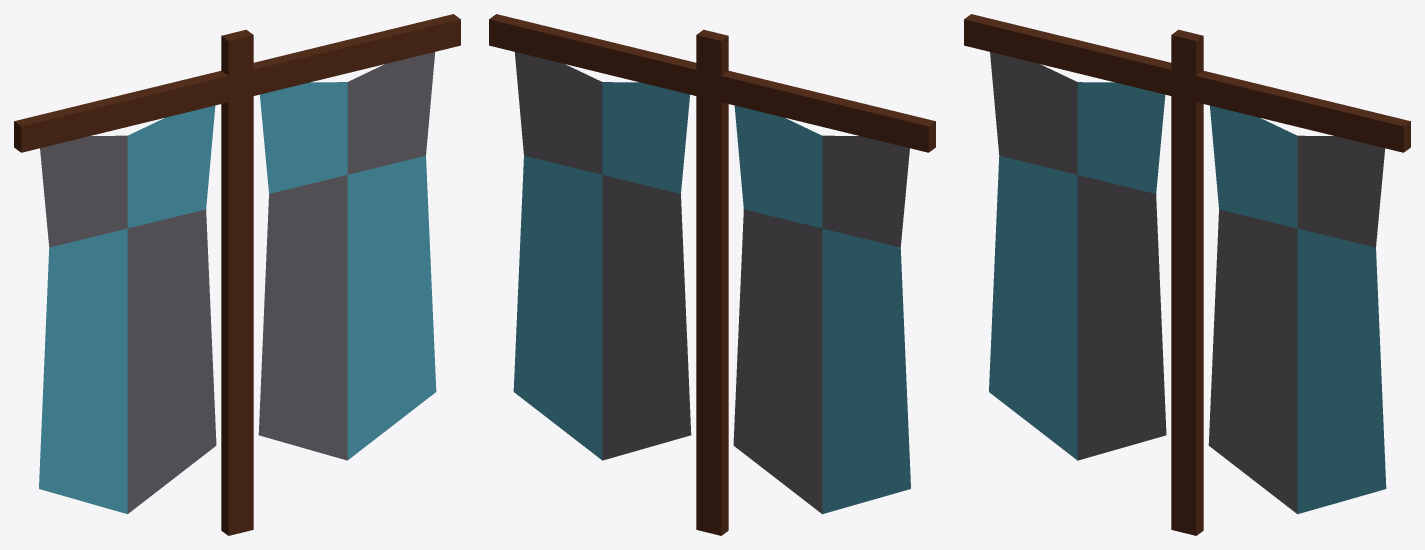
File: EstandarteArtesanos.fbx
The picture shows the model from 3 angles, left to right: view 1: azimuth 30°, elevation 25°; view 2: azimuth 150°, elevation 25°; view 3: azimuth 330°, elevation 25°; orthographic projection.
Visible parts, largest first — view 1: Estandarte.003; view 2: Estandarte.003; view 3: Estandarte.003.
Boxes of the visible parts, x1,y1,x2,y2 form: Estandarte.003: (14, 14, 460, 535); Estandarte.003: (489, 14, 935, 535); Estandarte.003: (964, 14, 1410, 535).
Bounding box in the file's own units: 175 × 188 × 5.
